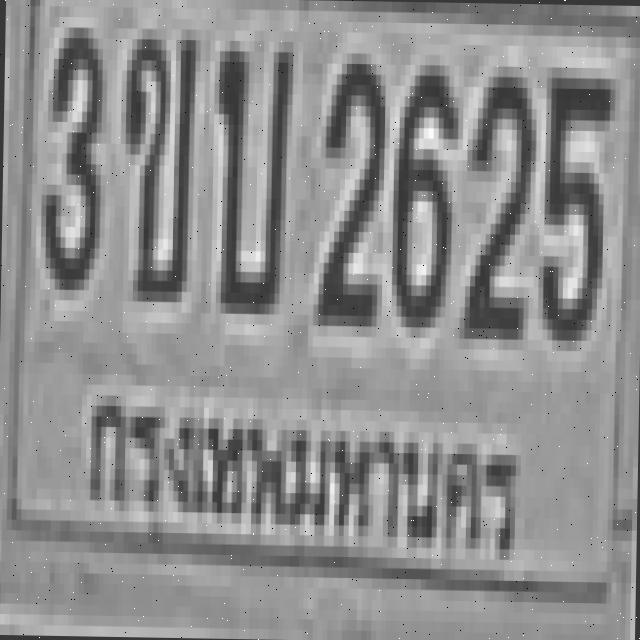11KhorKhai: (118, 18, 196, 292)
2: (459, 65, 532, 329), (313, 42, 381, 316)
3: (38, 16, 100, 279)
35BorBaiMai: (210, 29, 288, 304)
5: (537, 67, 610, 330)
6: (386, 53, 454, 317)
Bangkok: (66, 374, 542, 596)
